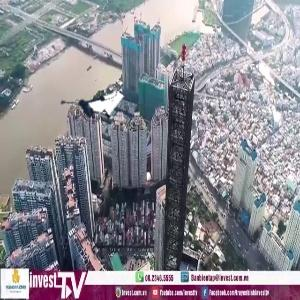drone: (55, 75, 118, 138)
